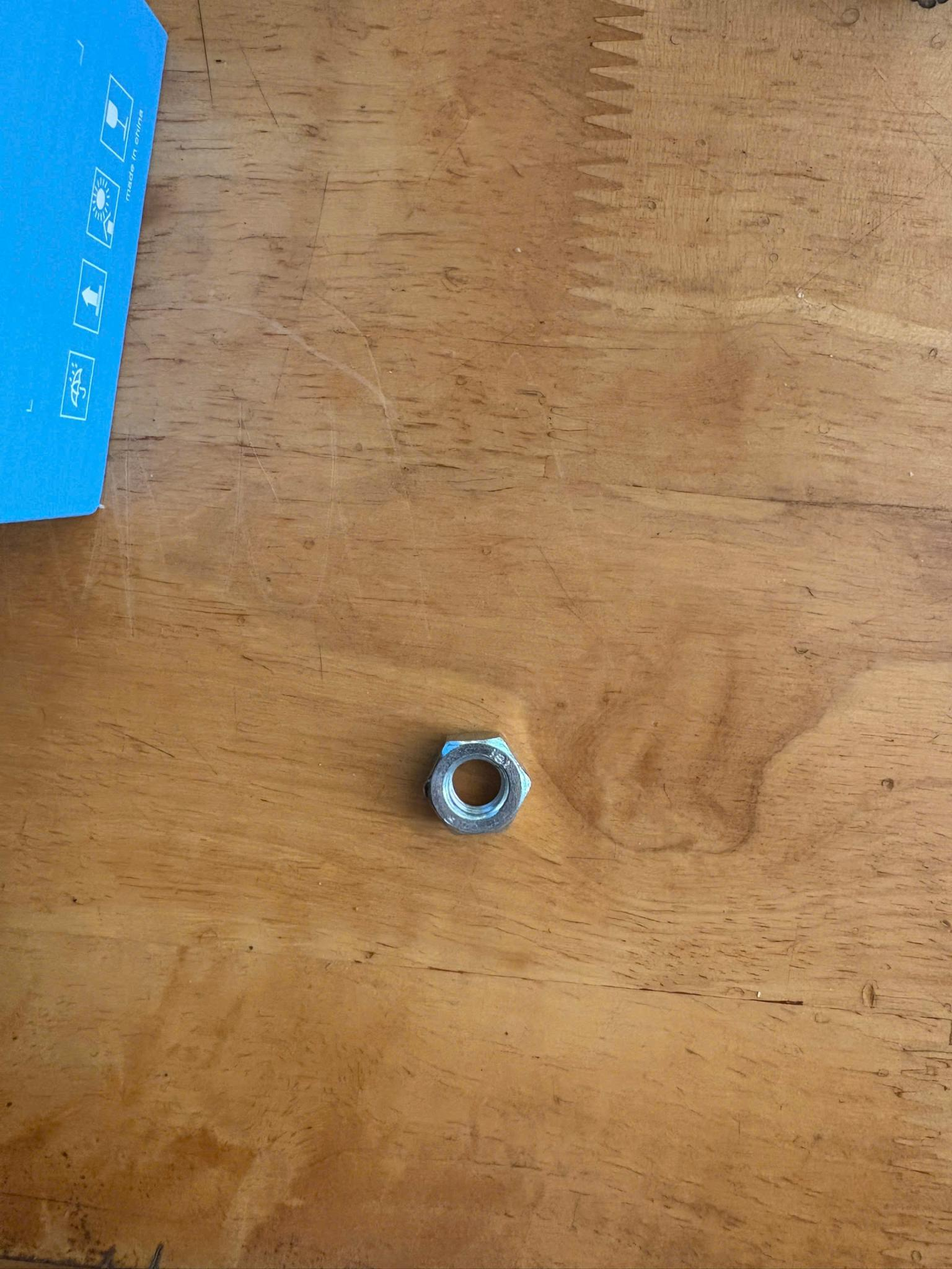nut: (414, 722, 537, 857)
